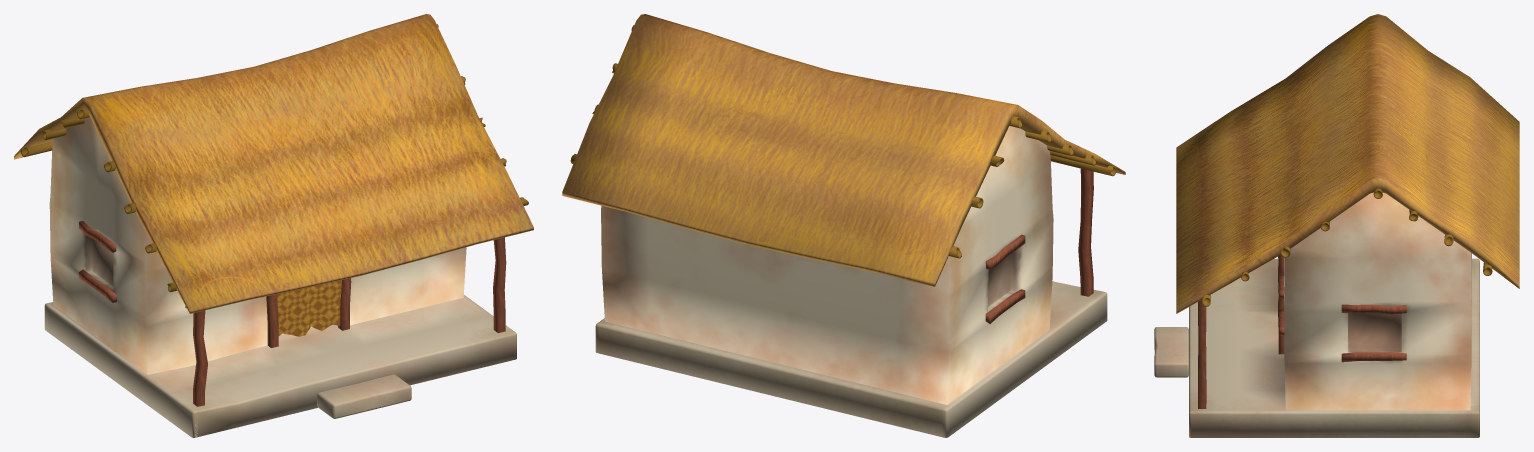
The model's file is village house for sketchfab.fbx.
3 renders of one model, left to right at view 1: azimuth 30°, elevation 25°; view 2: azimuth 150°, elevation 25°; view 3: azimuth 270°, elevation 25°, orthographic. The views are drawn at different scales.
Visible parts, largest first — view 1: House; view 2: House; view 3: House.
Part boxes in pixels (bbox=[...]): House: bbox=[14, 14, 533, 437]; House: bbox=[562, 14, 1125, 437]; House: bbox=[1154, 14, 1519, 437].
Bounding box in the file's own units: 697 × 502 × 628.
